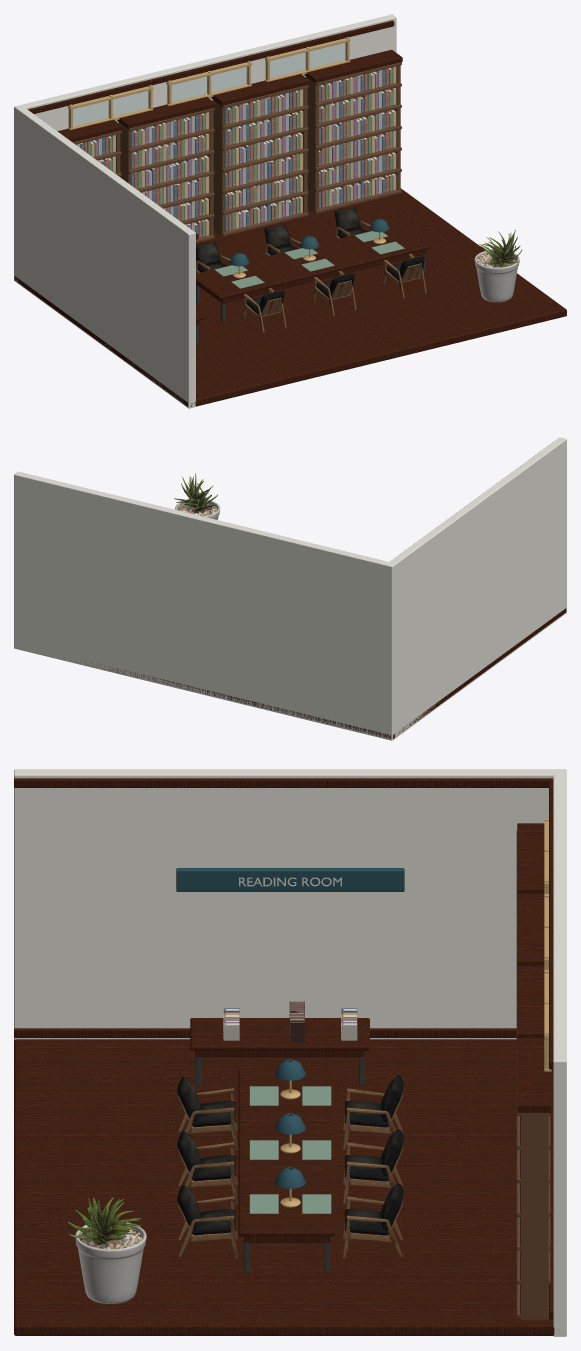
The model's file is library_reading_room.glb.
3 renders of one model, top to bottom at view 1: azimuth 30°, elevation 25°; view 2: azimuth 150°, elevation 25°; view 3: azimuth 270°, elevation 25°, orthographic. The views are drawn at different scales.
Visible parts, largest first — view 1: RefinedSurface_Warm oak, RefinedSurface_Ivory plaster, RefinedSurface_Walnut, RefinedSurface_Brass, RefinedSurface_Book cover 3, RefinedSurface_Book cover 2, RefinedSurface_Book cover 1, RefinedSurface_Book cover 0, RefinedSurface_Glass, RefinedSurface_Book cover 5, RefinedSurface_Book cover 4, Refined_LibraryPlant (+9 smaller); view 2: RefinedSurface_Ivory plaster, RefinedSurface_Warm oak, Refined_LibraryPlant; view 3: RefinedSurface_Warm oak, RefinedSurface_Ivory plaster, RefinedSurface_Walnut, RefinedSurface_Ink blue, Refined_LibraryPlant, RefinedSurface_Sage, Refined_ReadingChair.005, Refined_ReadingChair.004, Refined_ReadingChair.003, Refined_ReadingChair.001, Refined_ReadingChair.002, Refined_ReadingChair (+2 smaller).
Part boxes in pixels (box(x1,y1,x2,y2)): RefinedSurface_Warm oak: box(14, 20, 566, 406); RefinedSurface_Ivory plaster: box(14, 14, 396, 408); RefinedSurface_Walnut: box(73, 62, 401, 243); RefinedSurface_Brass: box(68, 37, 395, 278); RefinedSurface_Book cover 3: box(91, 66, 396, 235); RefinedSurface_Book cover 2: box(87, 68, 392, 236); RefinedSurface_Book cover 1: box(83, 68, 389, 237); RefinedSurface_Book cover 0: box(80, 69, 385, 237); RefinedSurface_Glass: box(73, 43, 345, 126); RefinedSurface_Book cover 5: box(77, 70, 382, 231); RefinedSurface_Book cover 4: box(76, 71, 378, 228); Refined_LibraryPlant: box(474, 230, 522, 302); RefinedSurface_Ivory plaster: box(14, 437, 566, 740); RefinedSurface_Warm oak: box(62, 608, 566, 738); Refined_LibraryPlant: box(174, 473, 220, 519); RefinedSurface_Warm oak: box(14, 778, 554, 1335); RefinedSurface_Ivory plaster: box(14, 769, 566, 1336); RefinedSurface_Walnut: box(516, 830, 550, 1320); RefinedSurface_Ink blue: box(176, 868, 404, 1188); Refined_LibraryPlant: box(68, 1197, 146, 1303); RefinedSurface_Sage: box(249, 1086, 331, 1213); Refined_ReadingChair.005: box(343, 1183, 403, 1258); Refined_ReadingChair.004: box(177, 1185, 237, 1258); Refined_ReadingChair.003: box(343, 1129, 403, 1204); Refined_ReadingChair.001: box(343, 1075, 403, 1150); Refined_ReadingChair.002: box(177, 1131, 237, 1204); Refined_ReadingChair: box(177, 1077, 237, 1150).
Bounding box in the file's own units: 10 × 4.4 × 8.
21 materials, 6 textured.
